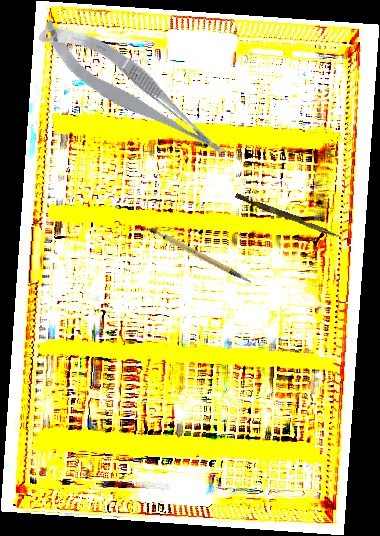Micro Scissor: (31, 1, 235, 184)
Pusher: (234, 192, 343, 240)
Scalpel Handle: (147, 214, 254, 300)
